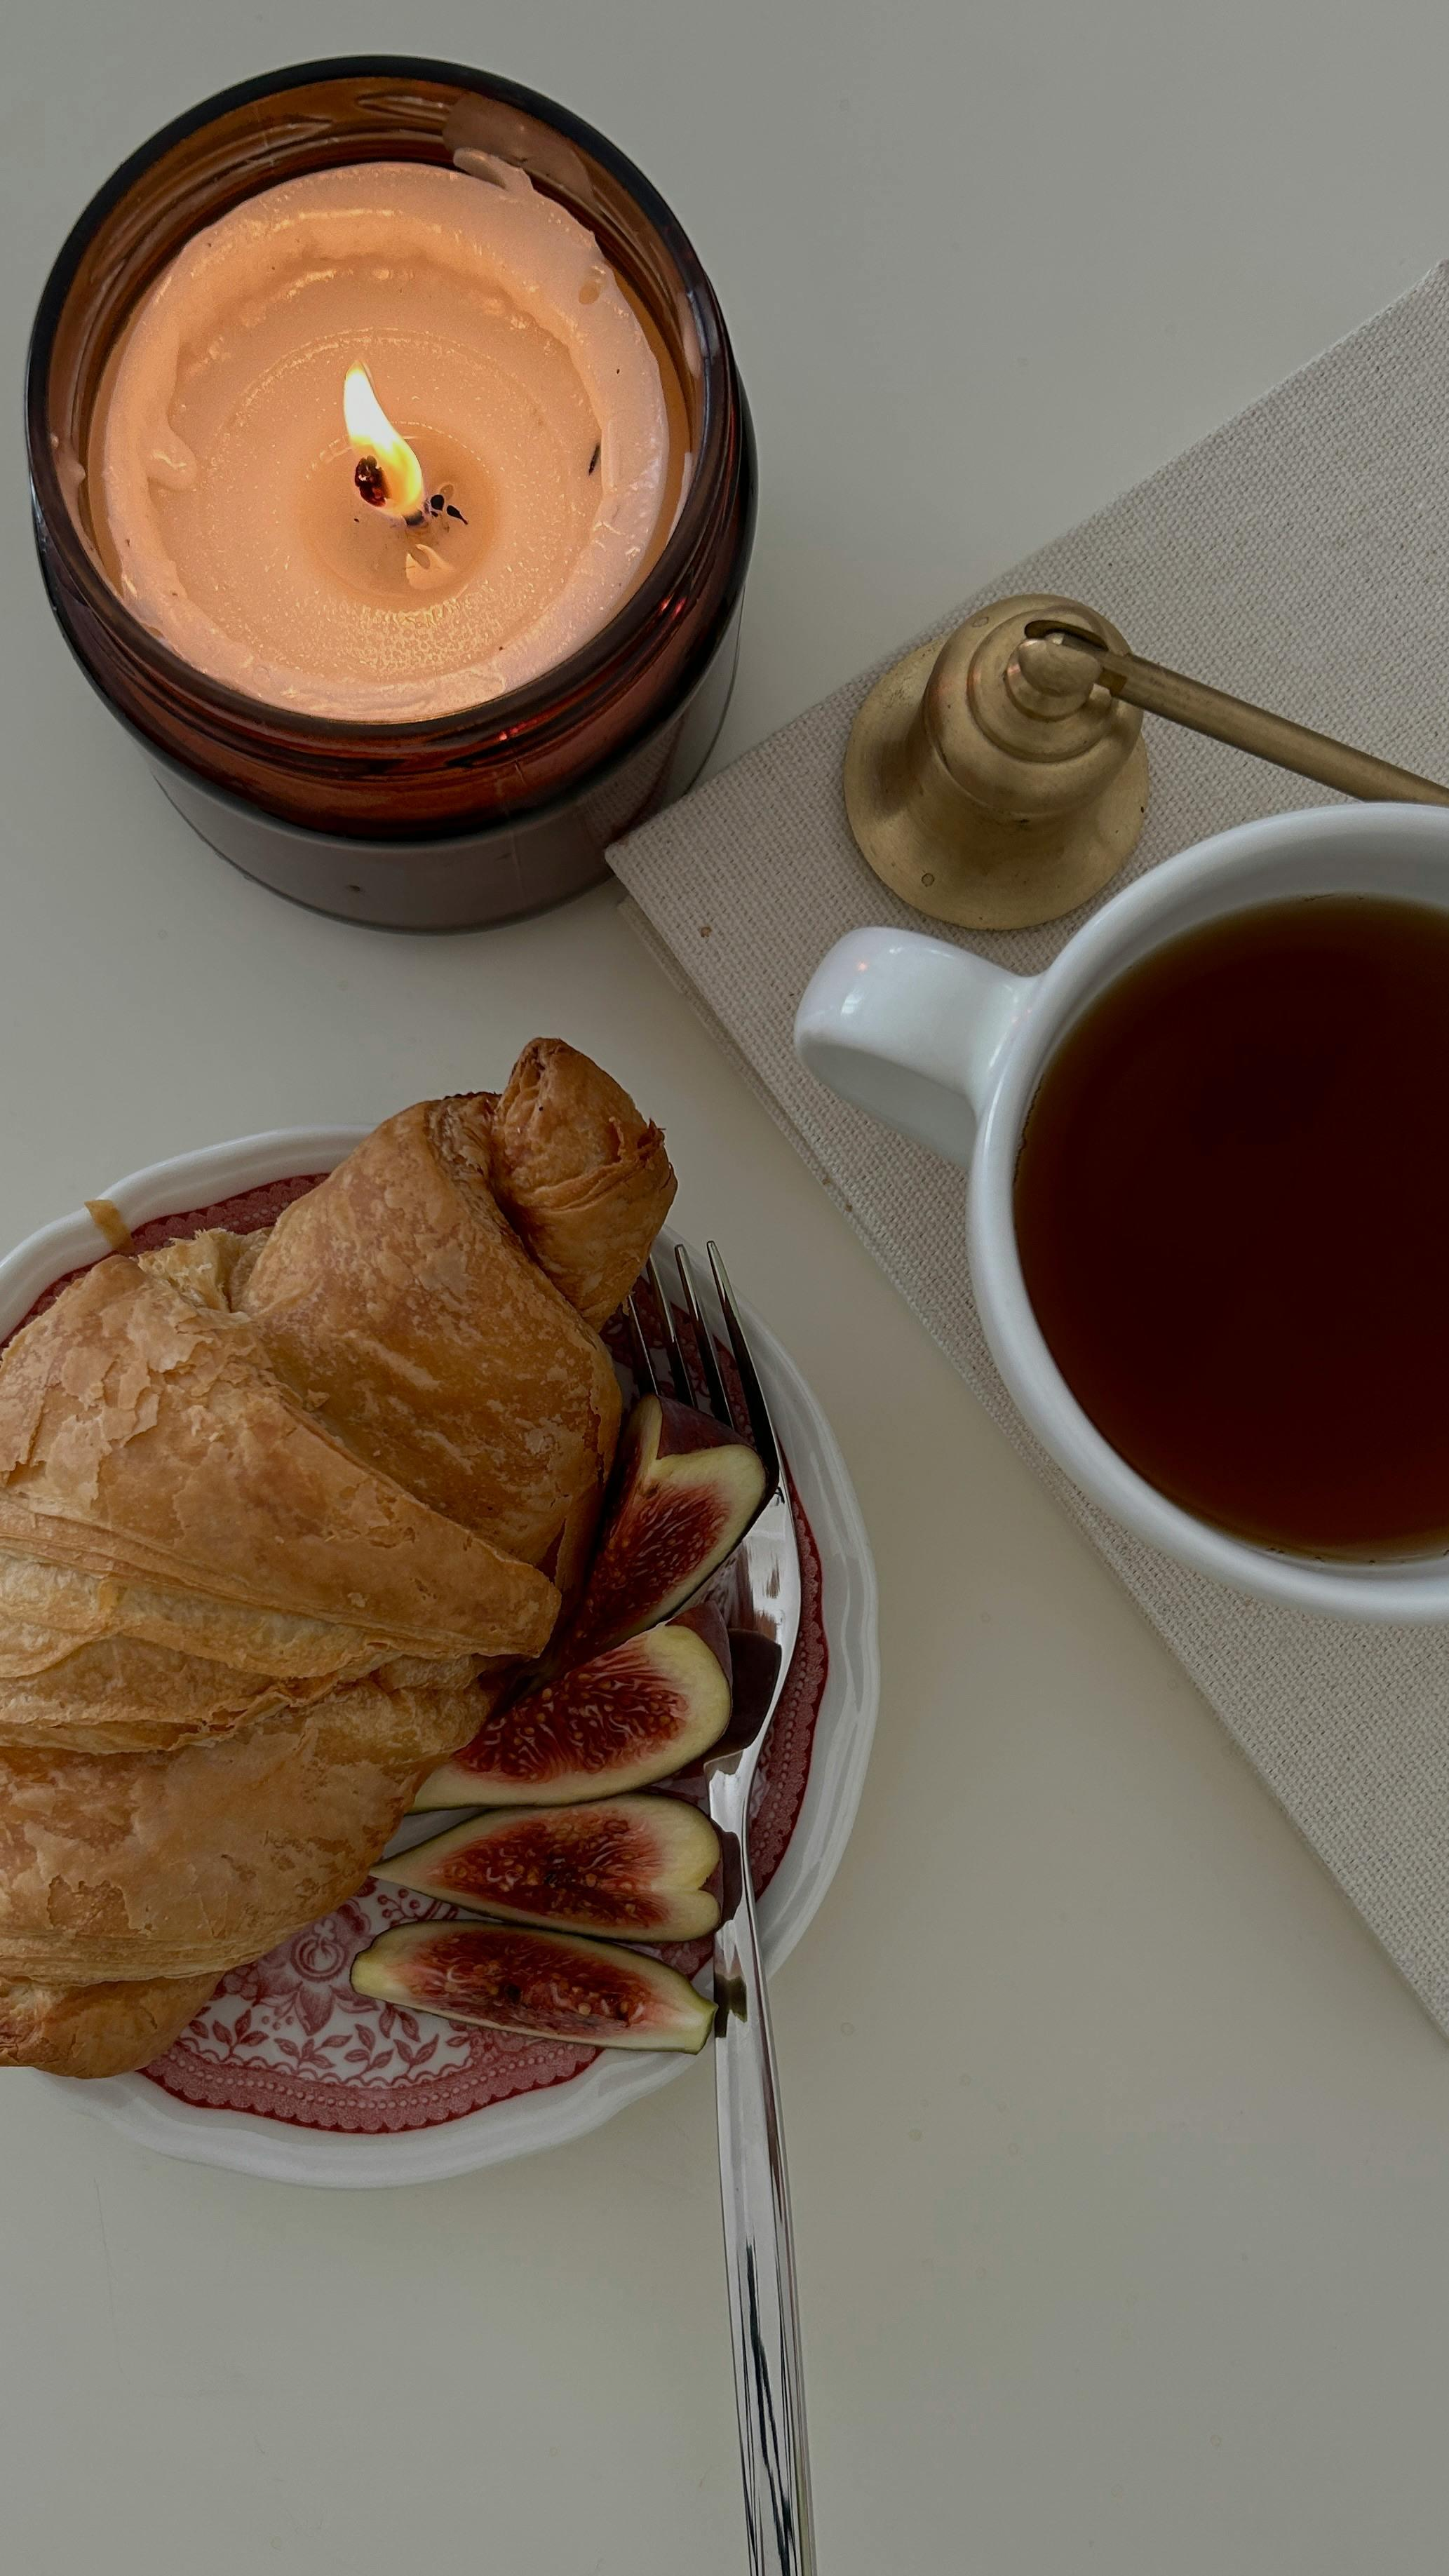Fire: (303, 317, 441, 552)
